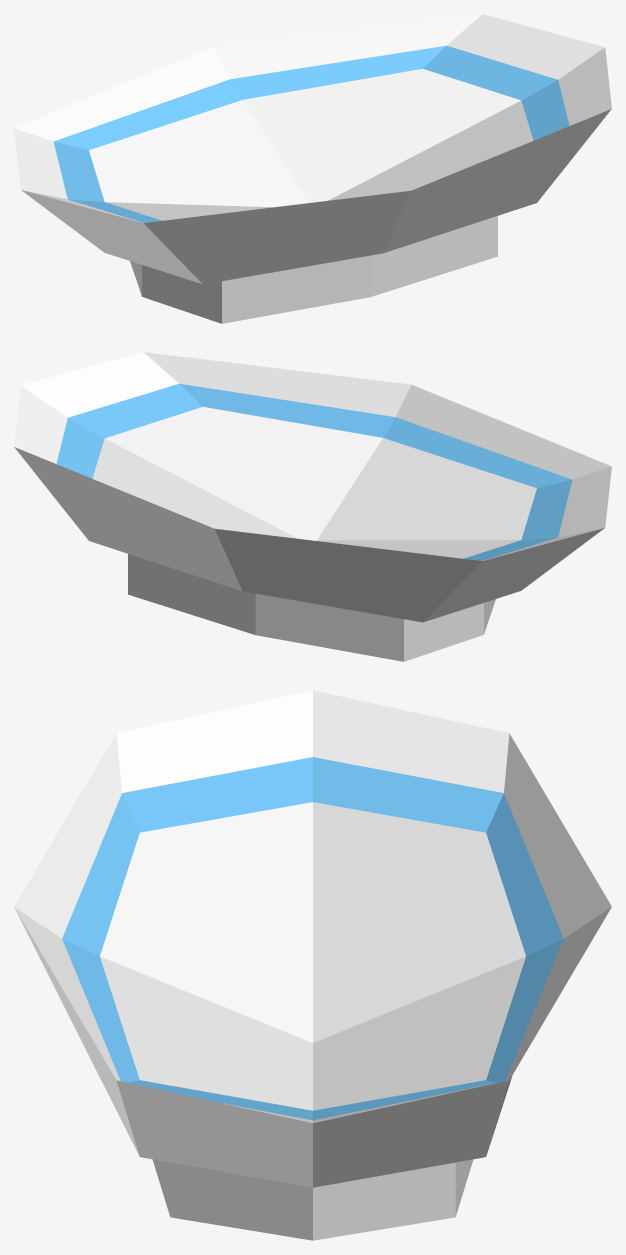
File: Butter Dish.fbx
3 renders of one model, top to bottom at view 1: azimuth 30°, elevation 25°; view 2: azimuth 150°, elevation 25°; view 3: azimuth 270°, elevation 25°, orthographic. The views are drawn at different scales.
Parts seen in each view (by area): view 1: Butter Dish; view 2: Butter Dish; view 3: Butter Dish.
Boxes of the visible parts, x1=… form: Butter Dish: x1=14, y1=14, x2=611, y2=323; Butter Dish: x1=14, y1=352, x2=611, y2=661; Butter Dish: x1=14, y1=690, x2=611, y2=1240.
Bounding box in the file's own units: 21.23 × 4.76 × 12.39.
